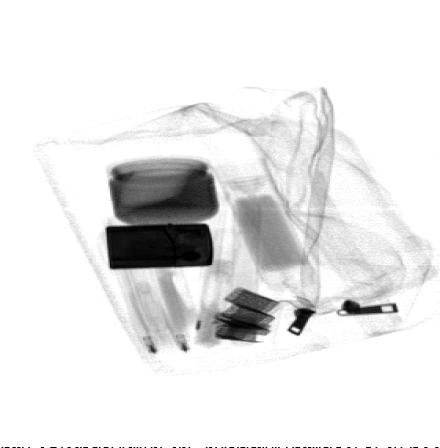Lighter: (105, 222, 215, 269)
